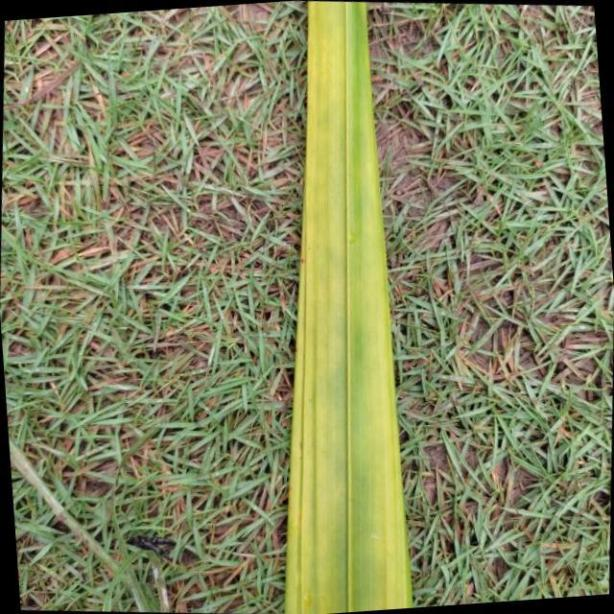nitrogen: (288, 0, 412, 614)
